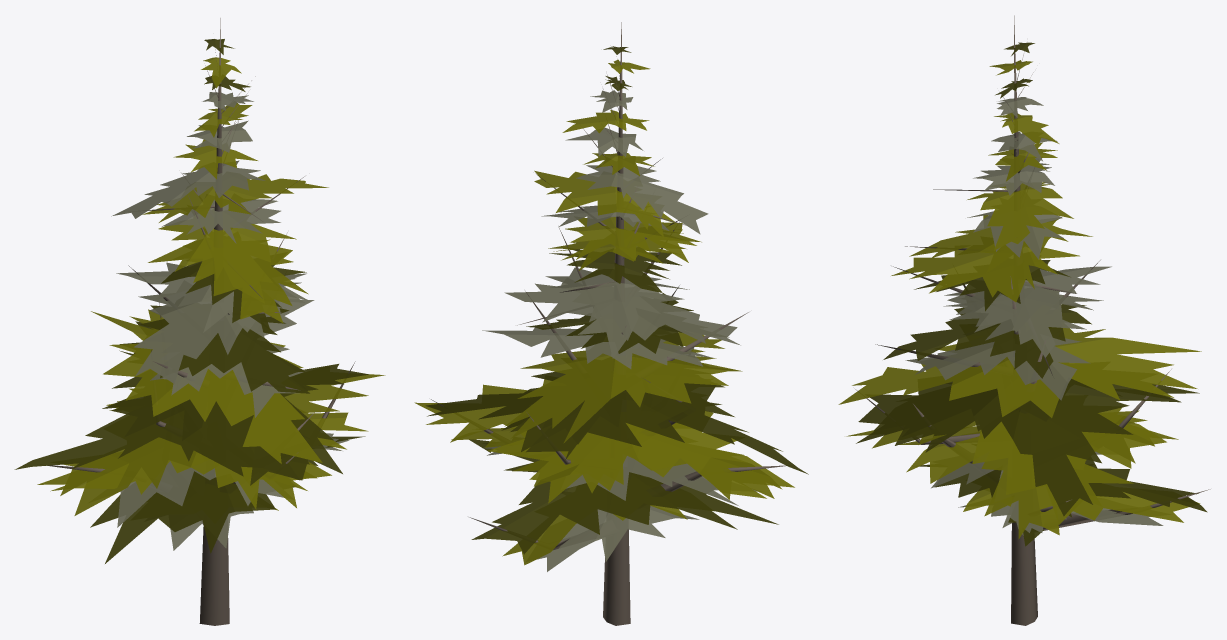
File: Tree6.dae
3 renders of one model, left to right at view 1: azimuth 30°, elevation 25°; view 2: azimuth 150°, elevation 25°; view 3: azimuth 270°, elevation 25°, orthographic.
Visible parts, largest first — view 1: group_3, group_24, group_26, group_25, group_22, group_6, group_10, group_5, group_28, group_1, group_9, group_12 (+11 smaller); view 2: group_26, group_3, group_25, group_24, group_6, group_28, group_7, group_22, group_4, group_13, group_12, group_10 (+11 smaller); view 3: group_3, group_24, group_26, group_22, group_28, group_9, group_5, group_7, group_4, group_12, group_25, group_1 (+11 smaller).
Part boxes in pixels (box(x1,y1,x2,y2)): group_3: box(91, 309, 322, 463); group_24: box(14, 350, 369, 480); group_26: box(60, 374, 385, 515); group_25: box(90, 436, 365, 563); group_22: box(111, 321, 342, 485); group_6: box(134, 273, 306, 383); group_10: box(148, 224, 296, 303); group_5: box(139, 305, 309, 393); group_28: box(37, 403, 368, 509); group_1: box(199, 18, 229, 625); group_9: box(183, 239, 308, 323); group_12: box(142, 174, 328, 222); group_26: box(414, 379, 794, 503); group_3: box(504, 332, 742, 443); group_25: box(469, 439, 778, 554); group_24: box(425, 387, 808, 474); group_6: box(504, 282, 740, 358); group_28: box(451, 428, 782, 499); group_7: box(545, 267, 689, 340); group_22: box(510, 372, 734, 451); group_4: box(482, 327, 712, 368); group_13: box(576, 165, 708, 234); group_12: box(534, 170, 677, 237); group_10: box(565, 217, 696, 262); group_3: box(838, 328, 1201, 417); group_24: box(873, 384, 1181, 516); group_26: box(846, 407, 1178, 524); group_22: box(856, 379, 1199, 443); group_28: box(899, 410, 1166, 539); group_9: box(891, 245, 1079, 302); group_5: box(883, 304, 1091, 378); group_7: box(947, 266, 1111, 332); group_4: box(905, 337, 1090, 400); group_12: box(967, 182, 1073, 250); group_25: box(920, 459, 1207, 546); group_1: box(1011, 15, 1037, 625).
Size of the model in its own units: 387 by 328 by 585.
